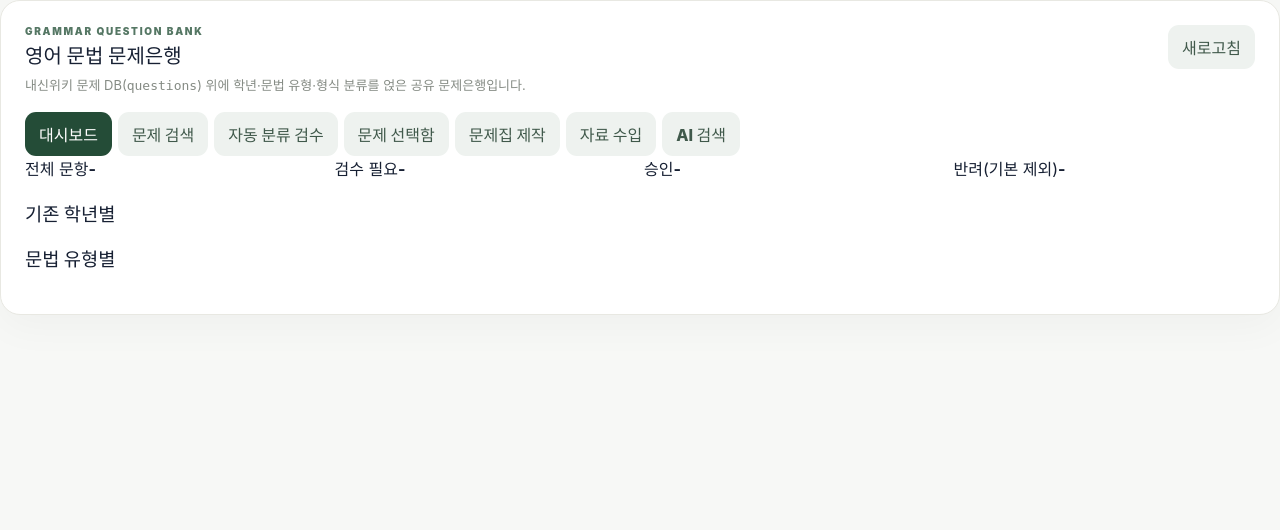
keeps selections across pages and applies the review queue filter
Click the button "자동 분류 검수" at (276, 134), box [214,112,338,156]
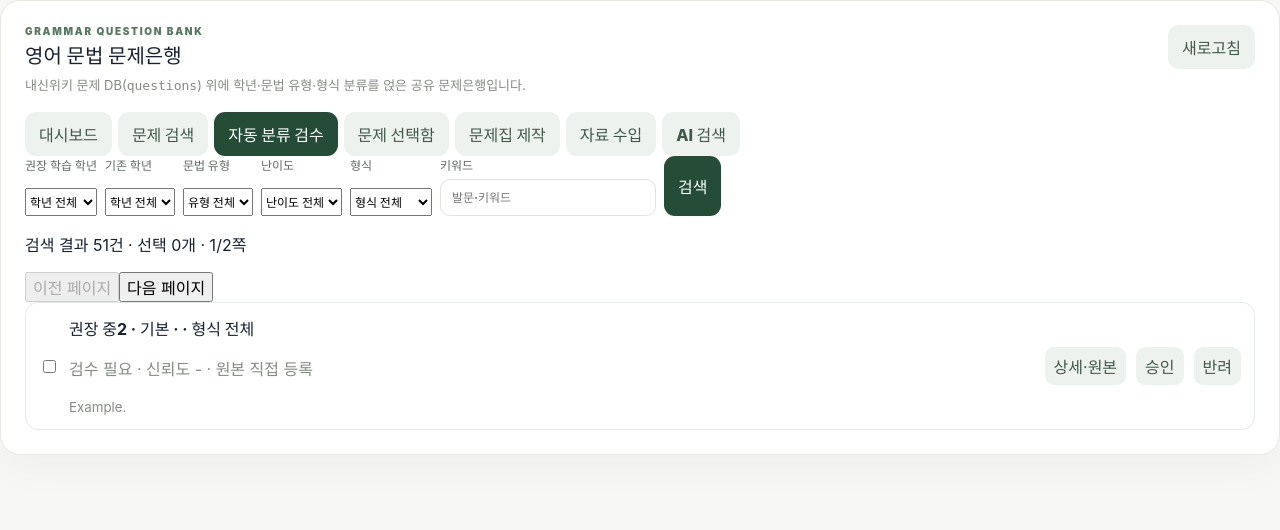
Click the checkbox named "1 선택" at (50, 366), box [43,360,56,372]
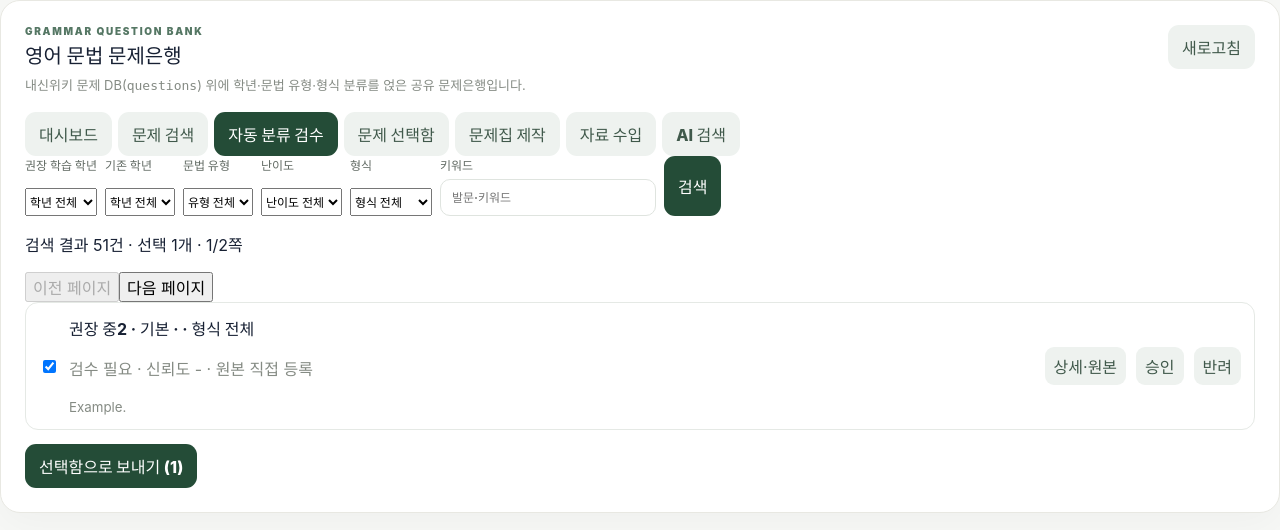
Click the button "다음 페이지" at (166, 287), box [119,272,213,302]
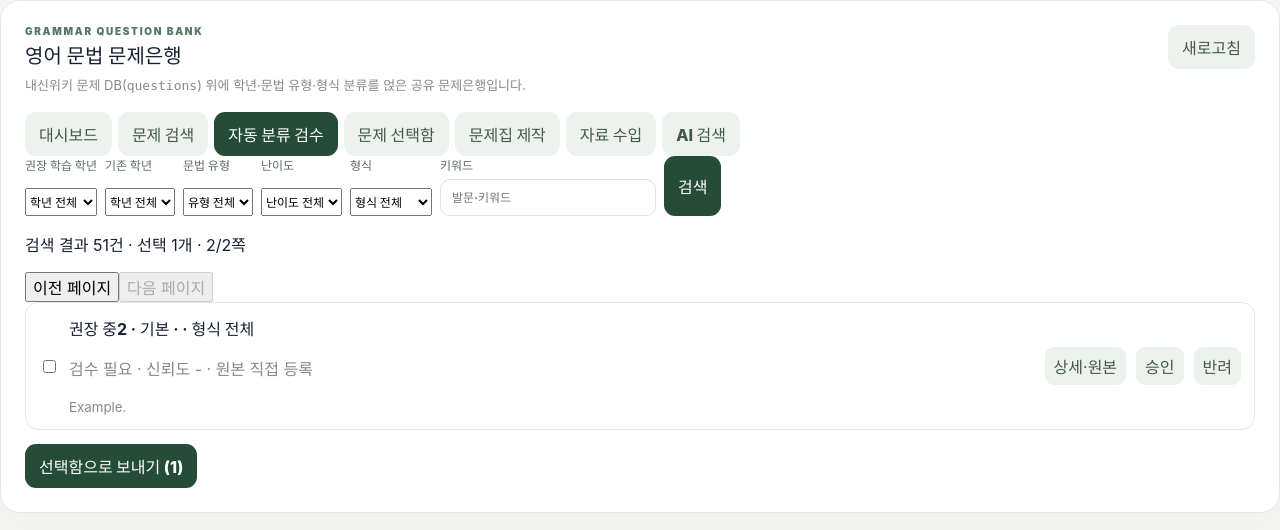
Result: the text "검색 결과 51건 · 선택 1개 · 2/2쪽" is shown at [25,235,246,255]
Result: the checkbox named "51 선택" is shown at [43,360,56,372]
Click the button "이전 페이지" at (72, 287), box [25,272,119,302]
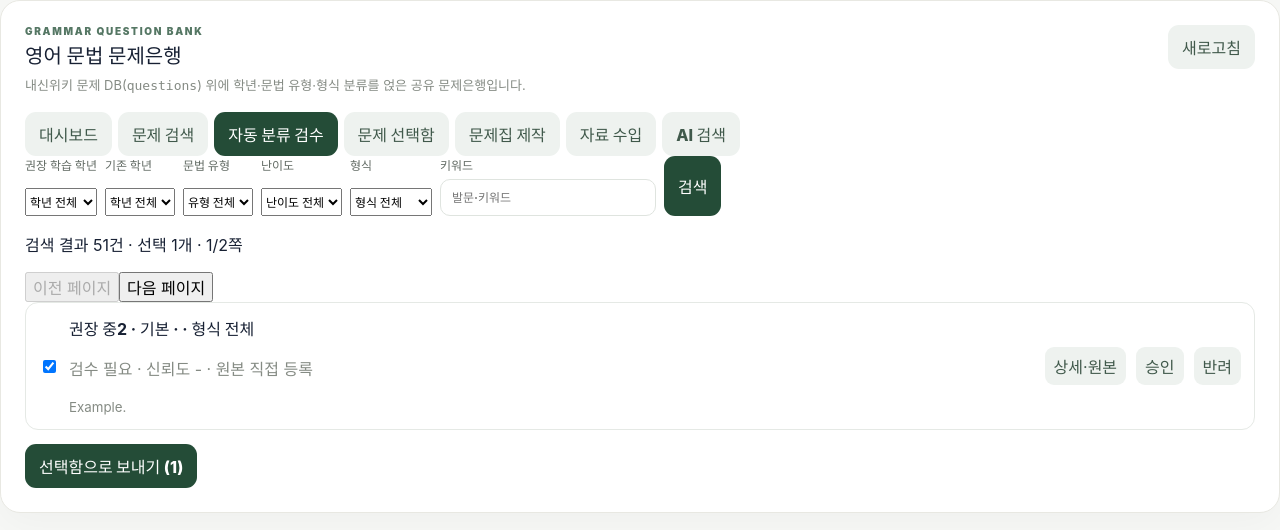
Result: the checkbox named "1 선택" is checked at [43,360,56,372]
